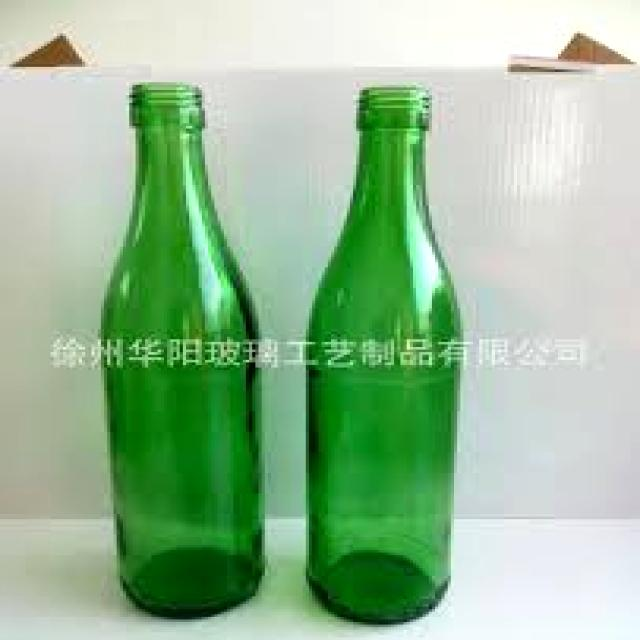Glass: (95, 78, 266, 625), (303, 82, 466, 634)
